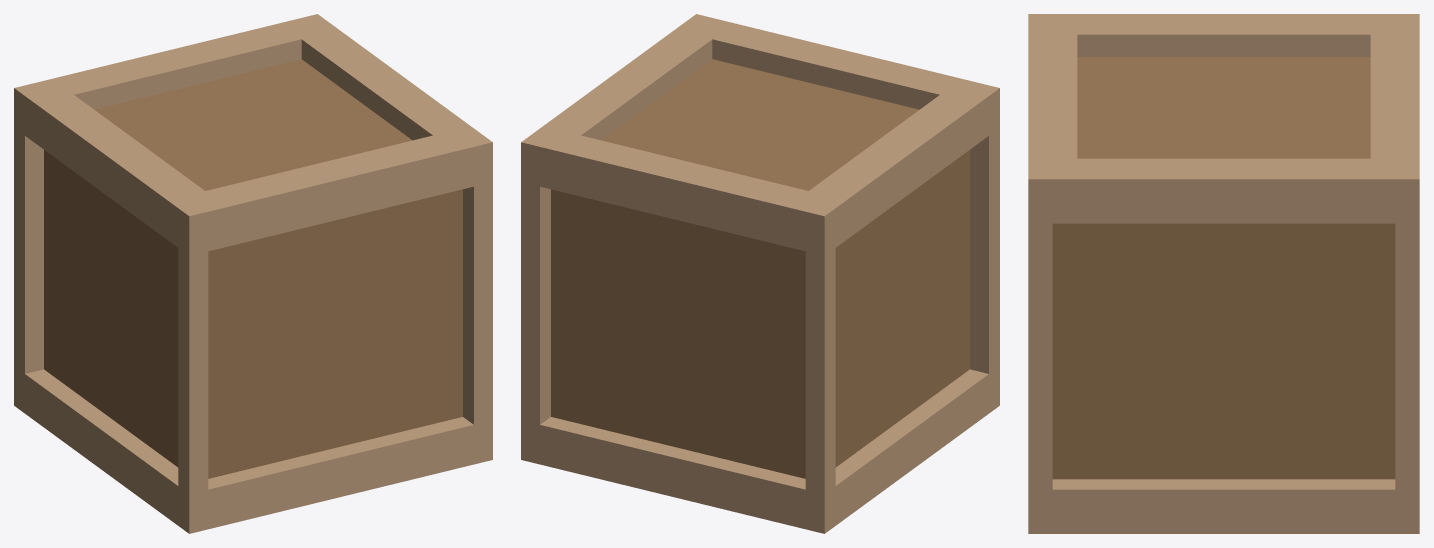
The model's file is vox_crate_small.glb.
The picture shows the model from 3 angles, left to right: view 1: azimuth 30°, elevation 25°; view 2: azimuth 150°, elevation 25°; view 3: azimuth 270°, elevation 25°; orthographic projection. The views are drawn at different scales.
Parts seen in each view (by area): view 1: Object_127; view 2: Object_127; view 3: Object_127.
Boxes of the visible parts, x1,y1,x2,y2 form: Object_127: (14,14,492,533); Object_127: (521,14,999,533); Object_127: (1028,14,1419,533).
Size of the model in its own units: 0.4 by 0.4 by 0.4.
1 material, 1 textured.
